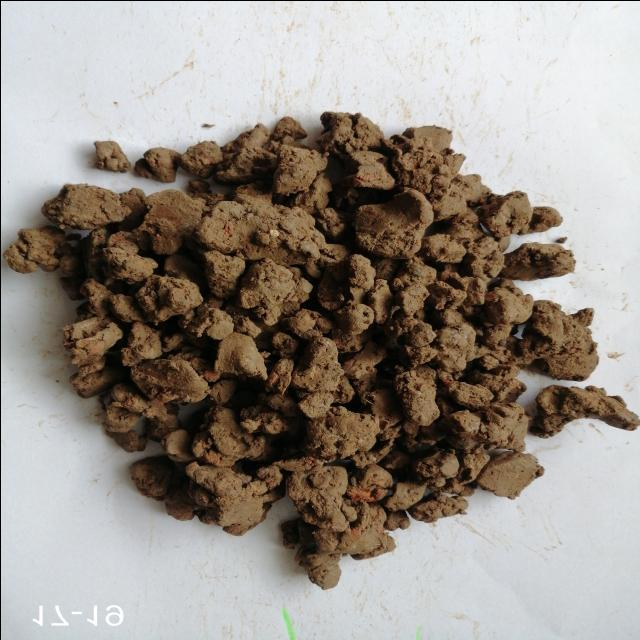soil: (183, 202, 472, 482)
